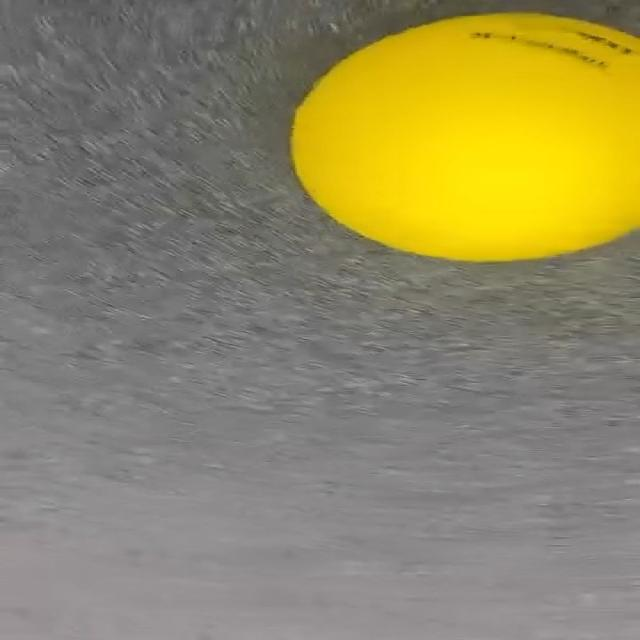Fuels: (293, 13, 638, 259)
